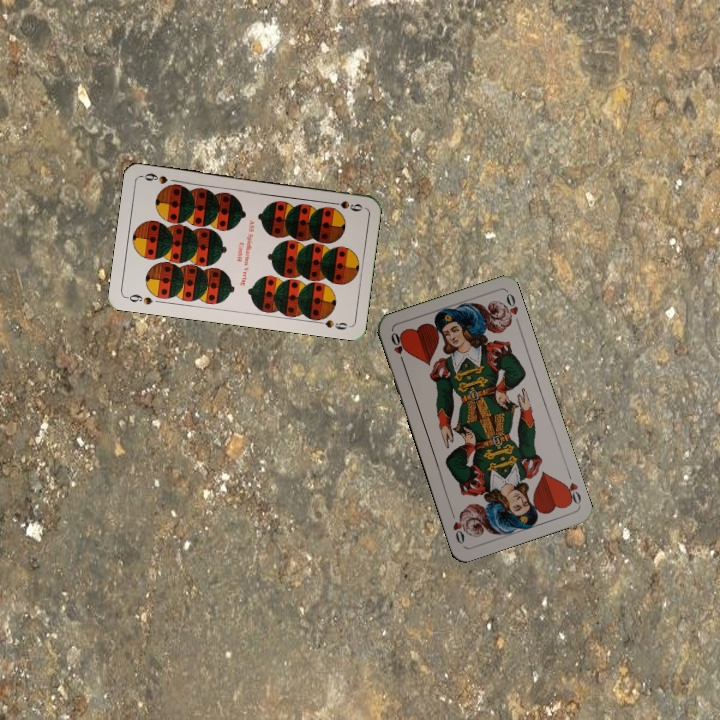HO: (559, 468, 584, 507), (387, 328, 408, 367)
S9: (325, 197, 365, 214), (122, 290, 155, 307)
